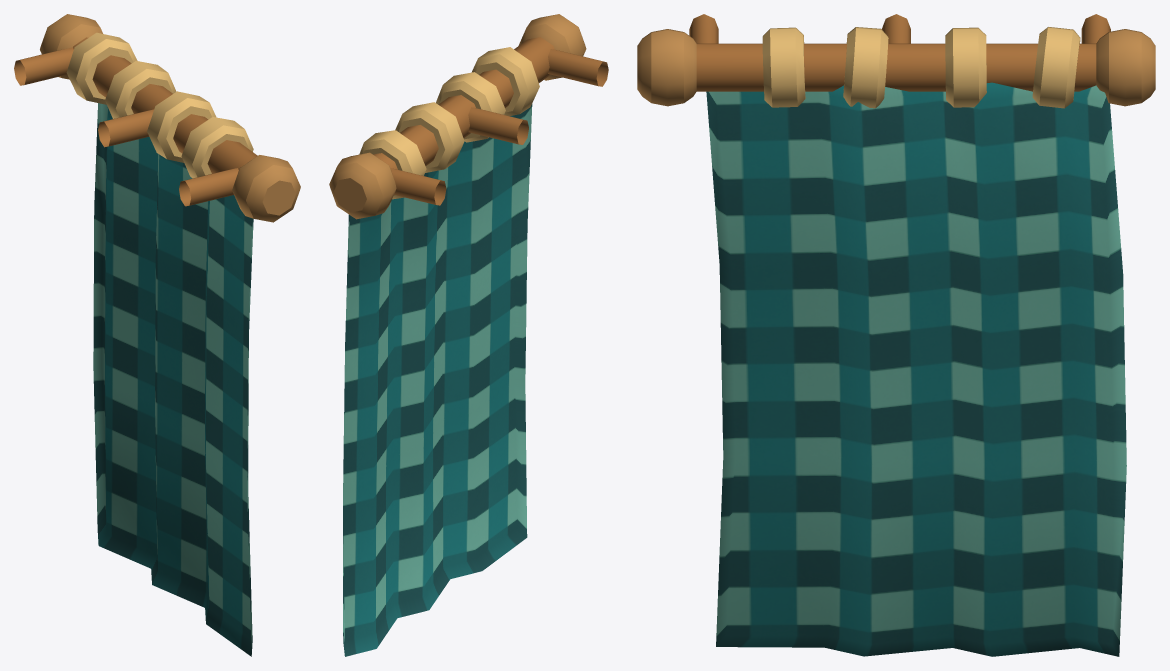
File: Curtains_Short_1_C_D.glb
3 views of the same model, side by side, from view 1: azimuth 30°, elevation 25°; view 2: azimuth 150°, elevation 25°; view 3: azimuth 270°, elevation 25° (orthographic). The views are drawn at different scales.
Visible parts, largest first — view 1: Curtains_Short_1_C_D; view 2: Curtains_Short_1_C_D; view 3: Curtains_Short_1_C_D.
Boxes of the visible parts, x1,y1,x2,y2 form: Curtains_Short_1_C_D: (14,14,300,656); Curtains_Short_1_C_D: (329,14,608,656); Curtains_Short_1_C_D: (637,14,1155,656).
Size of the model in its own units: 0.2275 by 1.16 by 0.8807.
2 materials, 2 textured.
